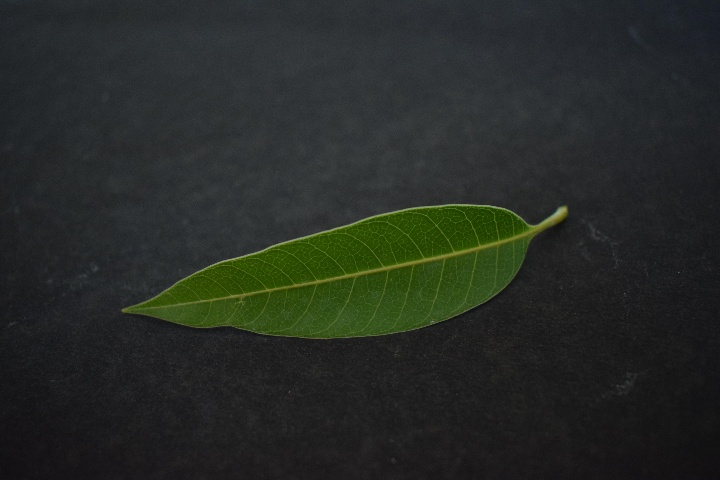healthy: (129, 202, 537, 339)
